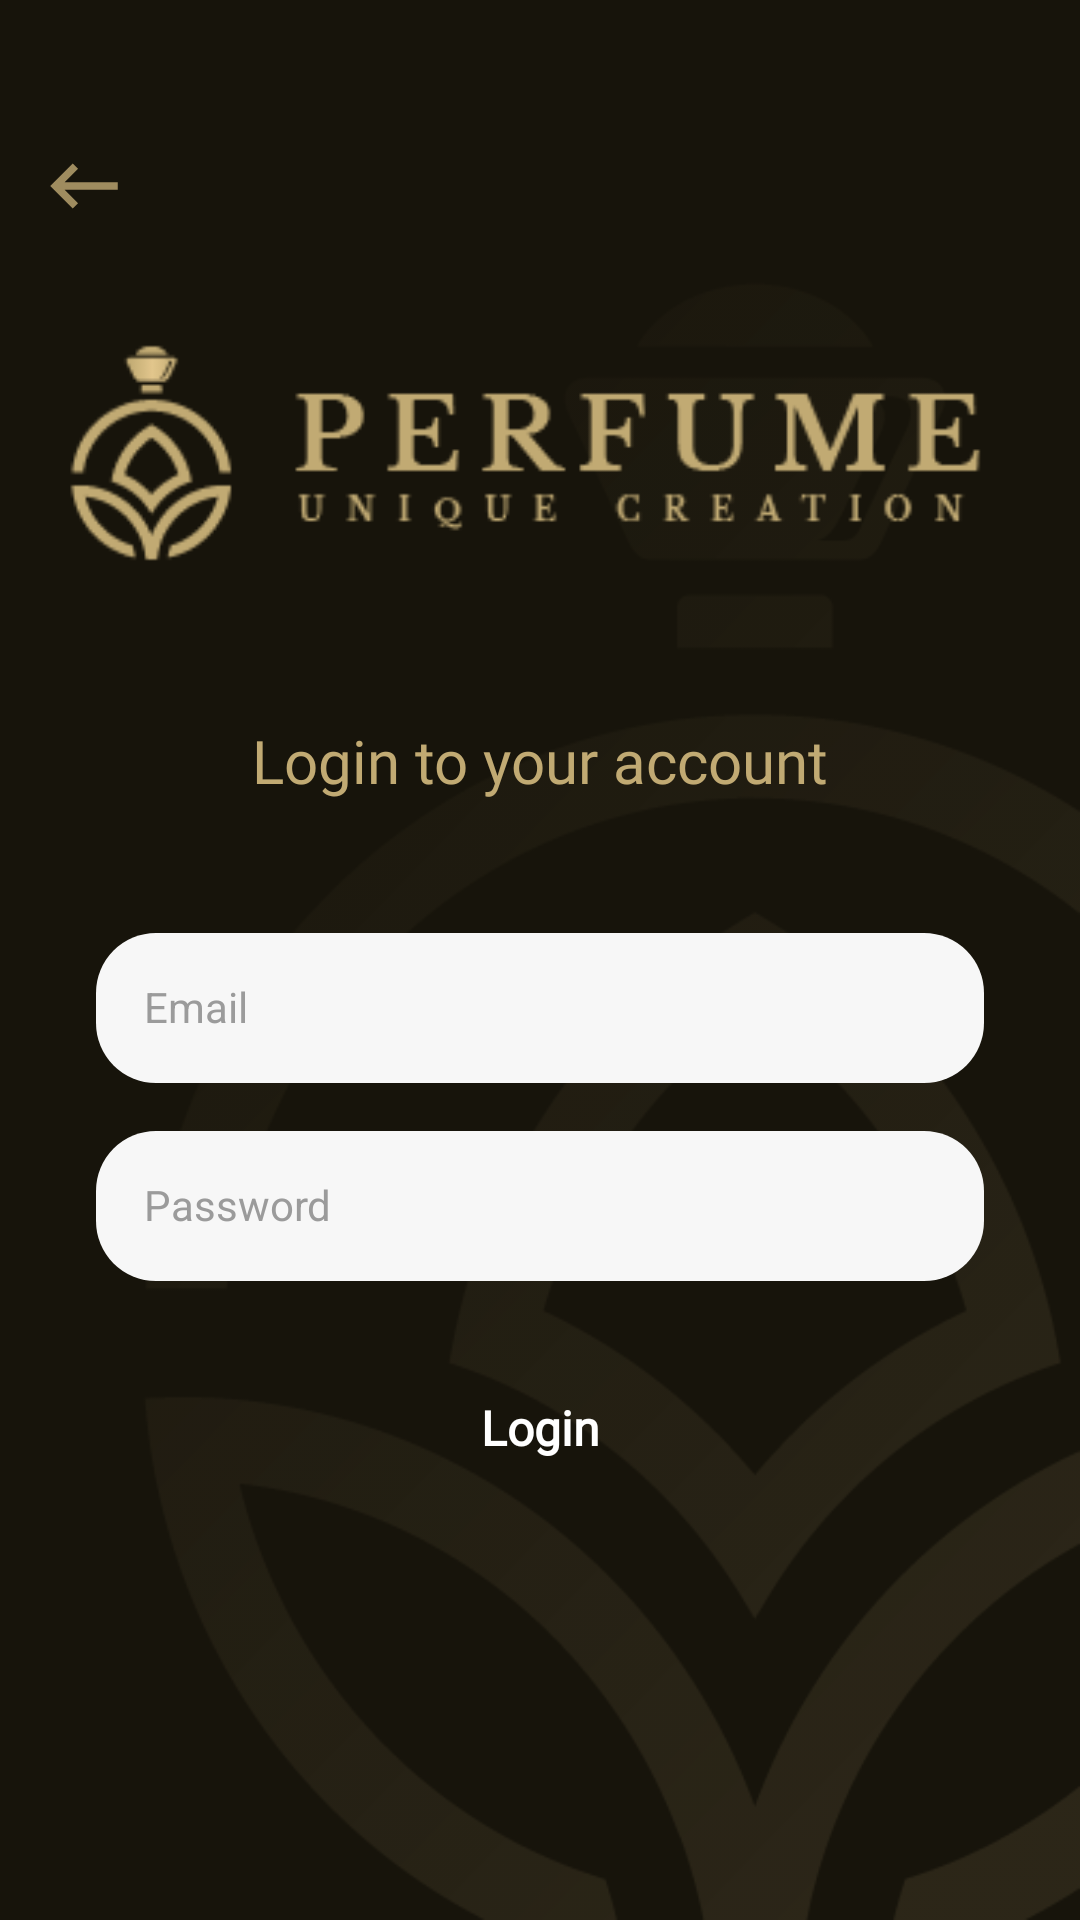

Icons on this 1080px×1920px Android screen, each with its box as (x1, y1, x2, y2):
back: (50, 163, 118, 209)
